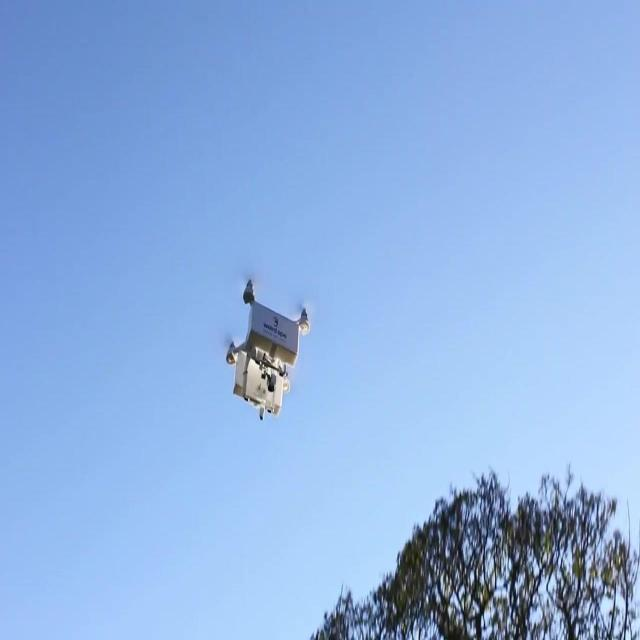drone: (224, 269, 312, 423)
